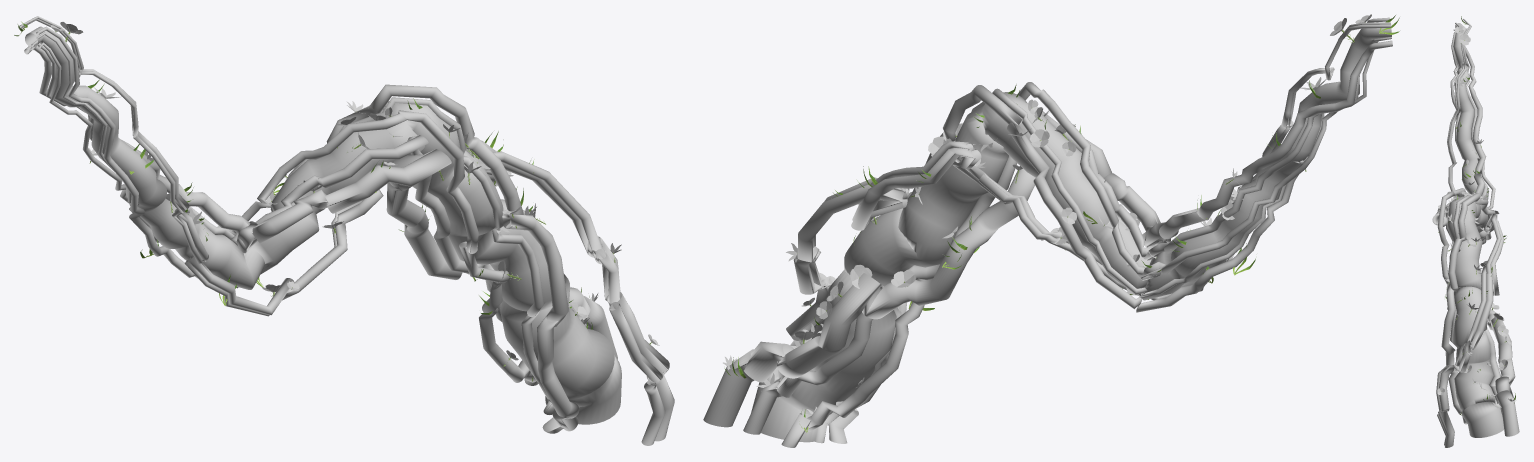
The model's file is vine.fbx.
3 views of the same model, side by side, from view 1: azimuth 30°, elevation 25°; view 2: azimuth 150°, elevation 25°; view 3: azimuth 270°, elevation 25° (orthographic). The views are drawn at different scales.
Visible parts, largest first — view 1: BezierCurve.003; view 2: BezierCurve.003; view 3: BezierCurve.003.
Part boxes in pixels (x1,y1,x2,y2): BezierCurve.003: (14, 16, 674, 445); BezierCurve.003: (703, 14, 1399, 447); BezierCurve.003: (1432, 16, 1519, 447).
Bounding box in the file's own units: 929 × 765 × 215.
